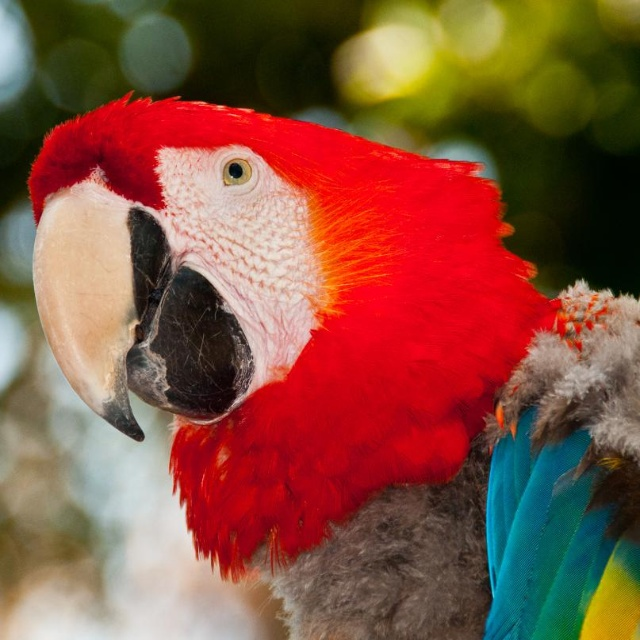Parrot: (29, 87, 640, 640)
